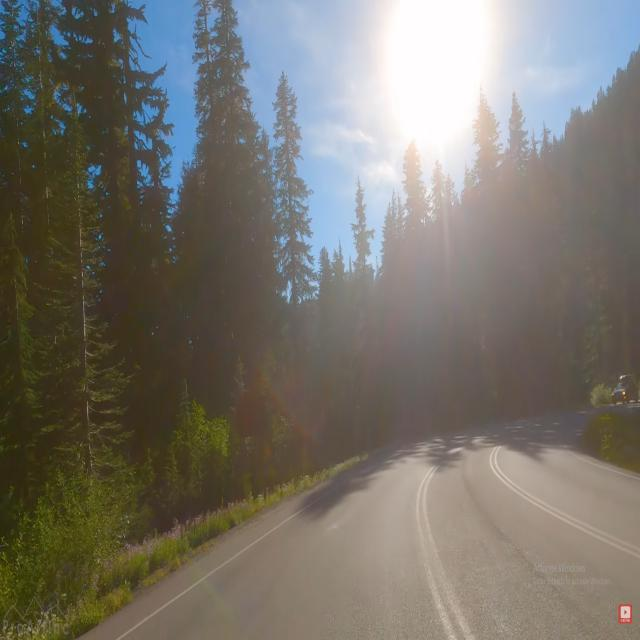sun: (358, 0, 516, 184)
